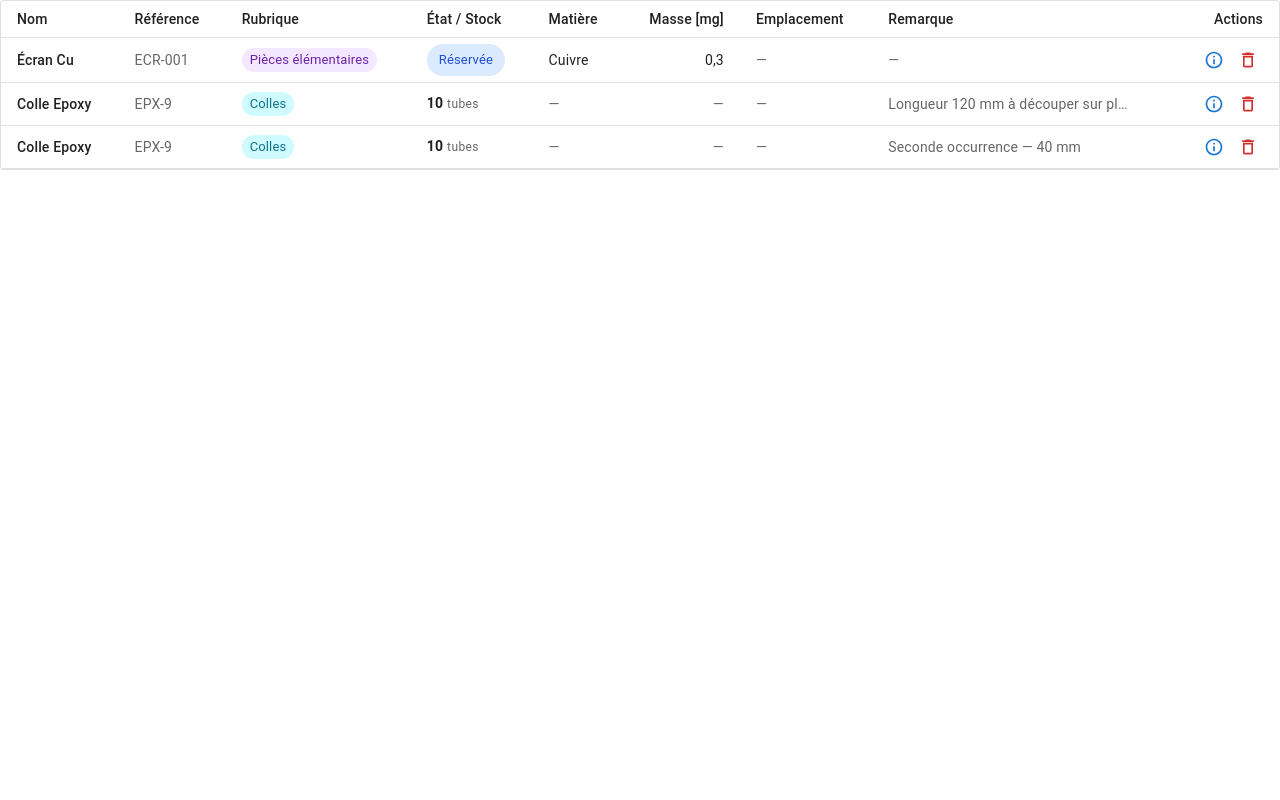
Test case: AssemblyItemsTable › le bouton Supprimer n’ouvre pas la fiche et le dialog affiche la remarque (R20)
The image size is (1280, 800).
Expected: the text "Écran Cu" is shown, [17,52,74,68]
Double-click the button named "Retirer Colle Epoxy" next to "Seconde occurrence — 40 mm" at point(1248, 147), box [1233,132,1263,162]
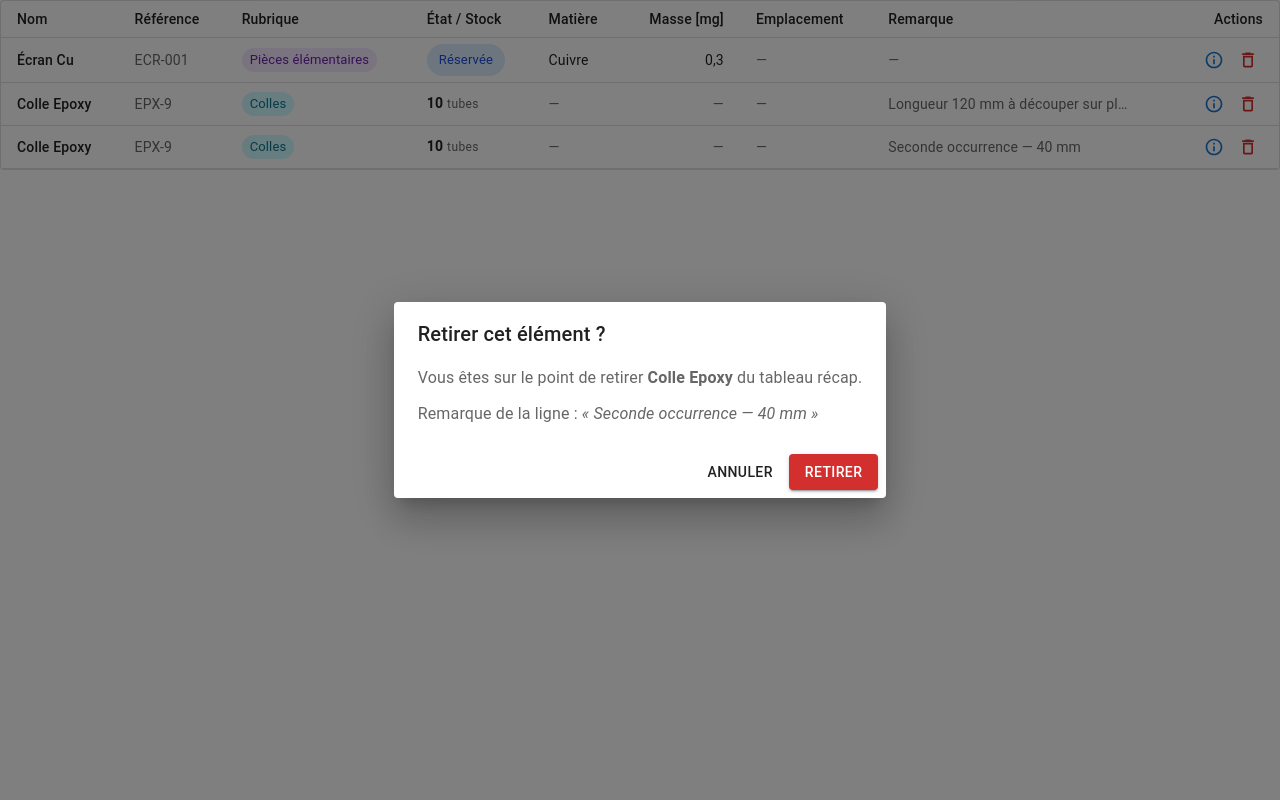
Expected: the text "« Seconde occurrence — 40 mm »" is shown, [582,404,819,423]
